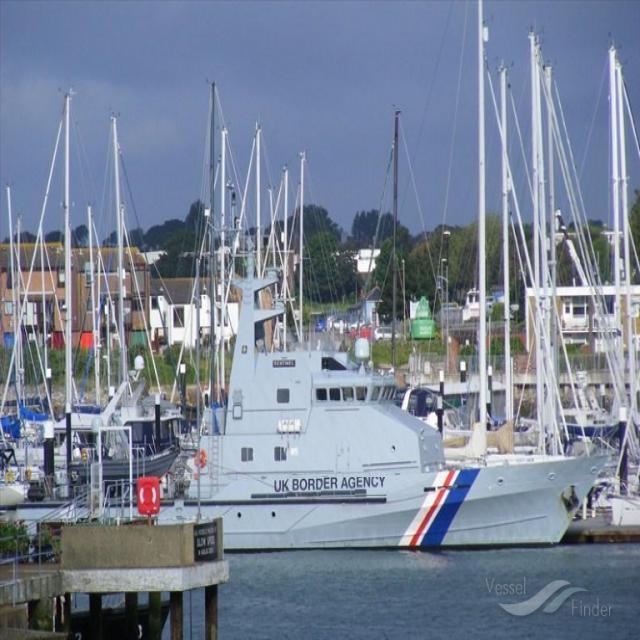OCR: (270, 477, 389, 499)
